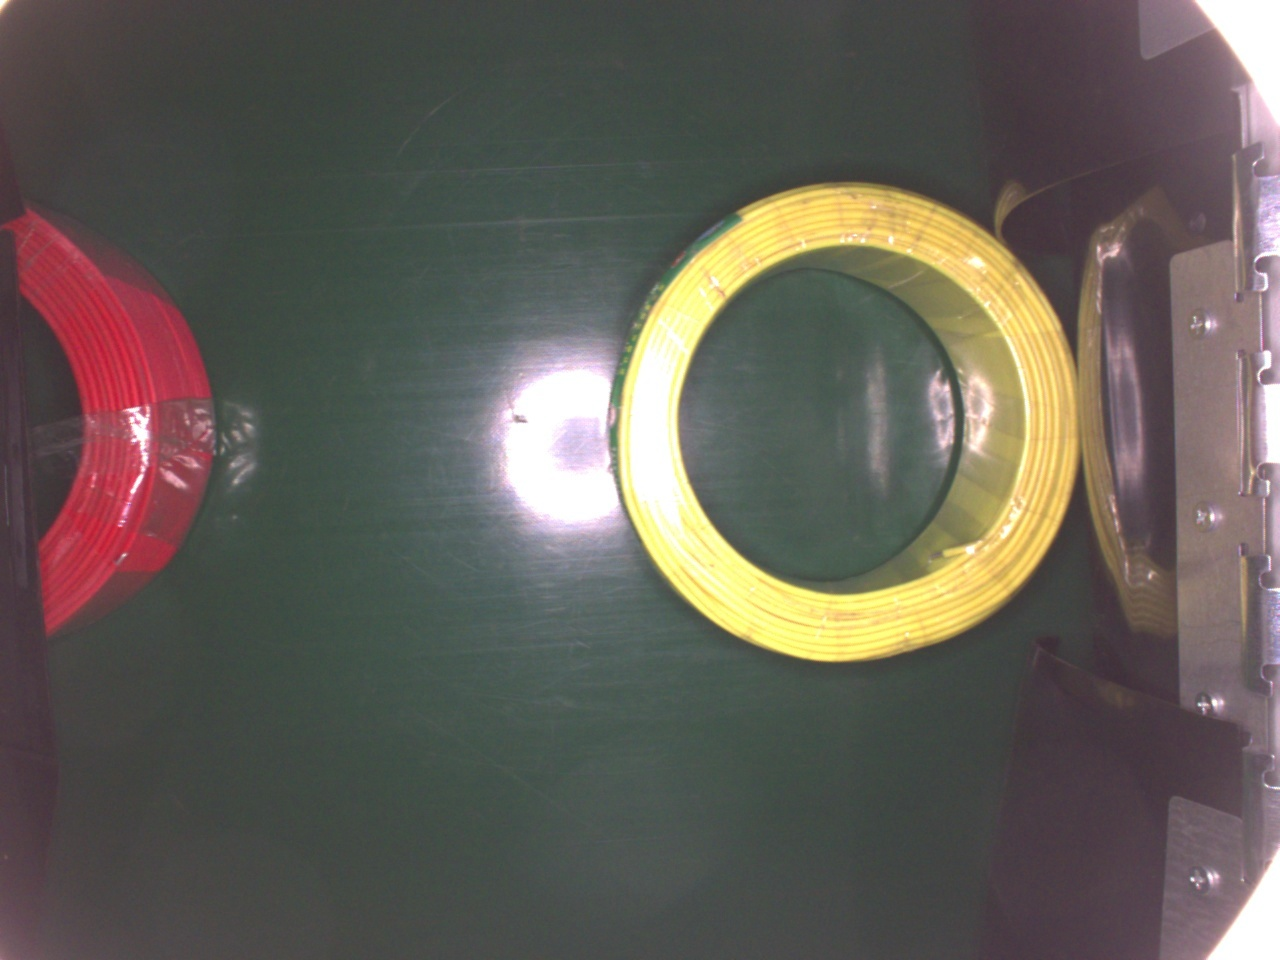red: (11, 188, 216, 645)
yellow: (601, 175, 1082, 658)
